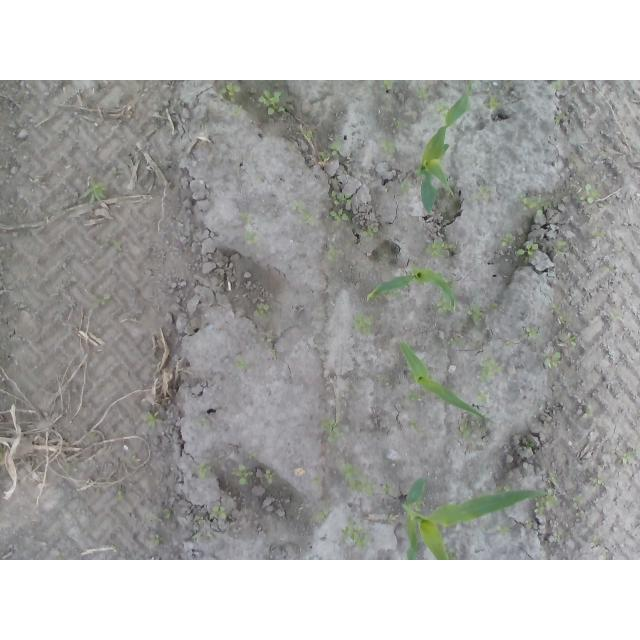Maize: (402, 476, 551, 561), (398, 340, 500, 424), (420, 84, 477, 212), (365, 268, 458, 316)
Weeds: (337, 463, 376, 495), (342, 522, 377, 551), (79, 178, 105, 207), (532, 490, 557, 520), (257, 90, 283, 117), (288, 201, 314, 227), (521, 195, 553, 216), (478, 356, 501, 383), (318, 140, 345, 162), (192, 515, 213, 541), (325, 190, 354, 208), (427, 241, 456, 259), (615, 448, 640, 468), (321, 420, 341, 444), (232, 464, 252, 488), (139, 411, 161, 430), (102, 234, 122, 254), (474, 385, 495, 404), (90, 293, 111, 311), (219, 83, 241, 100), (517, 242, 540, 258), (579, 186, 598, 205), (542, 352, 562, 370), (260, 338, 277, 359), (467, 305, 483, 327), (252, 301, 271, 319), (328, 208, 347, 225), (353, 315, 372, 332), (474, 185, 491, 203), (313, 508, 331, 525), (210, 507, 227, 524), (435, 98, 452, 115), (194, 418, 212, 434), (379, 139, 398, 154), (325, 243, 339, 263), (358, 225, 378, 239), (522, 325, 542, 339), (197, 460, 211, 480), (565, 332, 582, 348), (587, 229, 609, 241), (233, 354, 249, 370), (245, 230, 259, 246), (503, 341, 518, 355), (260, 469, 273, 485), (458, 420, 470, 437), (151, 531, 165, 545), (381, 483, 395, 497), (299, 128, 315, 140), (501, 235, 515, 248), (392, 117, 404, 131), (555, 114, 570, 125), (404, 392, 420, 402), (498, 524, 511, 536), (401, 178, 412, 192), (163, 508, 174, 522), (453, 337, 468, 347), (414, 88, 426, 100), (380, 81, 394, 91), (115, 489, 125, 503), (486, 97, 498, 108), (549, 82, 563, 91), (611, 312, 625, 321), (313, 475, 323, 486), (239, 213, 251, 222), (230, 103, 240, 113), (250, 449, 259, 458), (558, 241, 567, 248)
